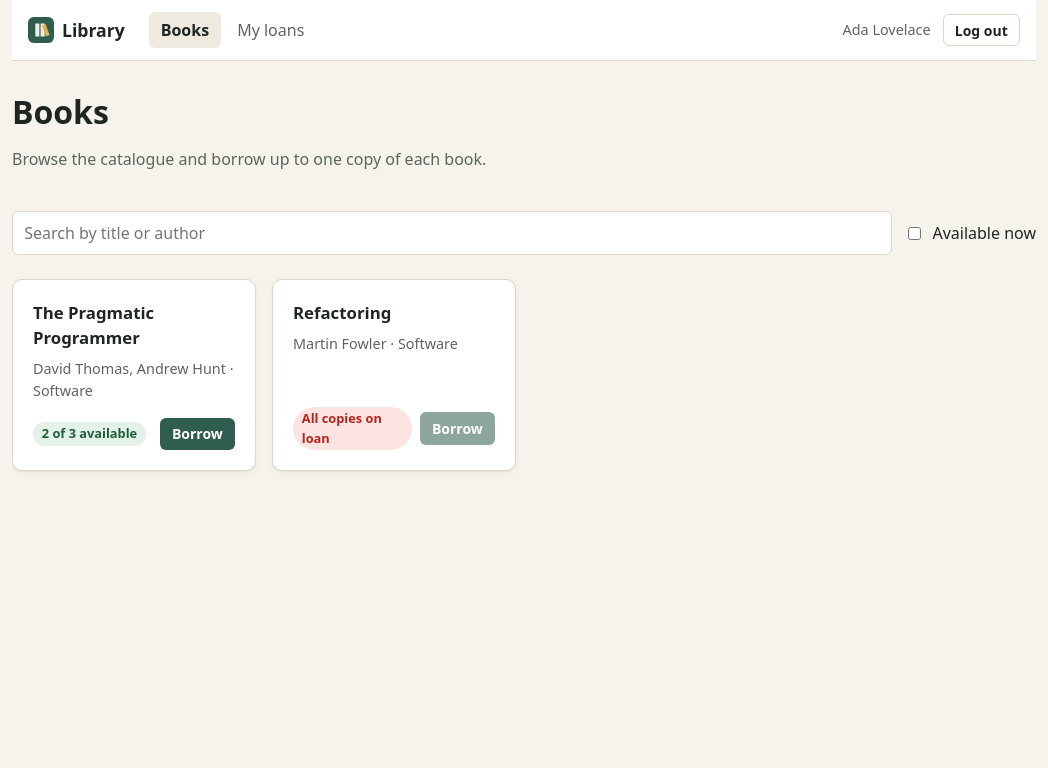
Scenario: borrowing › borrows a book and shows when it is due
Click the button with aria-label "Borrow The Pragmatic Programmer".
click(197, 434)  # box left=160, top=418, right=235, bottom=450
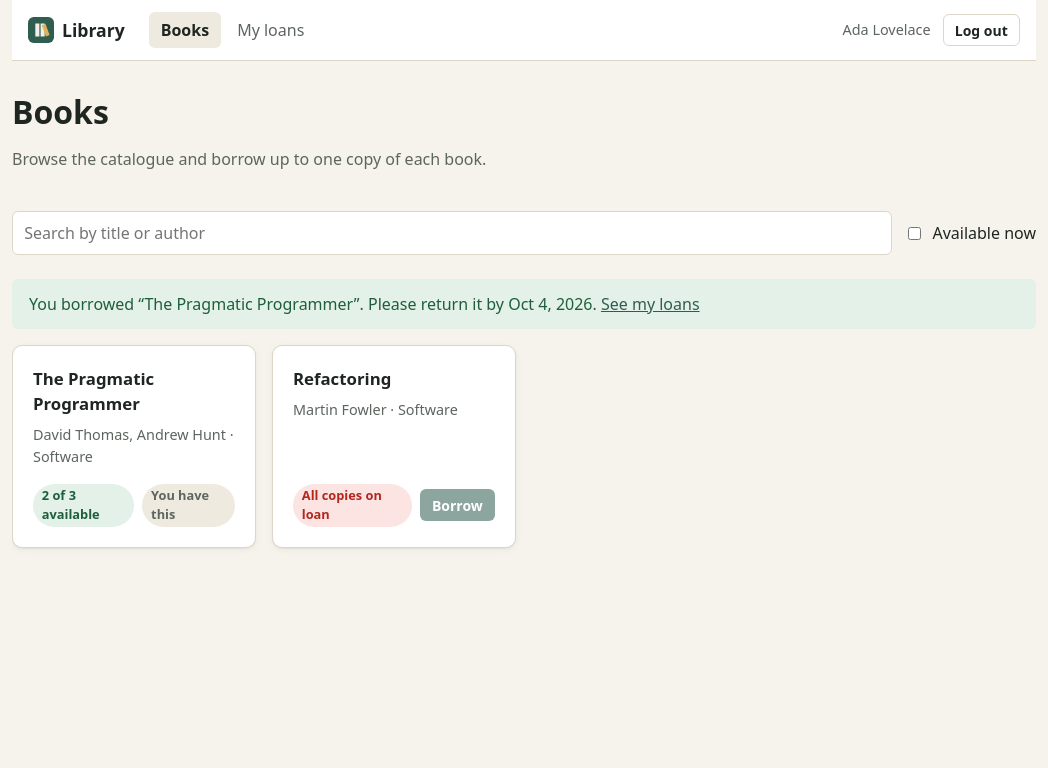
Result: the message shows "You borrowed “The Pragmatic Programmer”. Please return it by" at left=29, top=293, right=597, bottom=315
Result: the text "You have this" is shown at left=142, top=484, right=235, bottom=527
